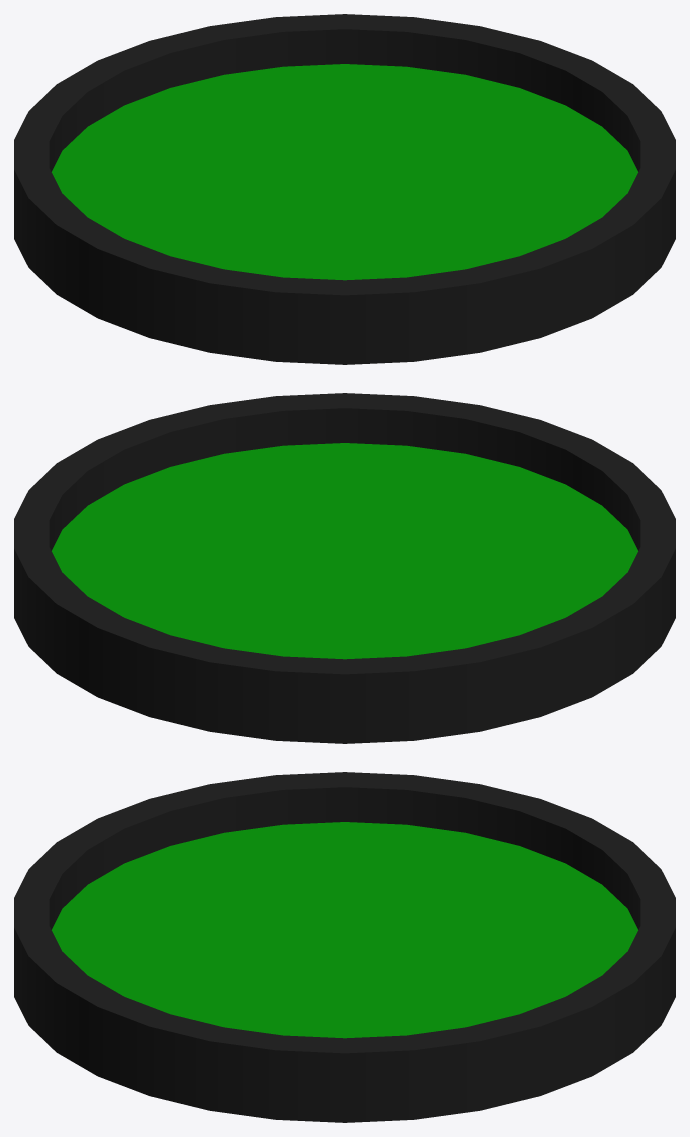
Rendered from Garden_Box_4.fbx.
The picture shows the model from 3 angles, top to bottom: view 1: azimuth 30°, elevation 25°; view 2: azimuth 150°, elevation 25°; view 3: azimuth 270°, elevation 25°; orthographic projection.
Parts seen in each view (by area): view 1: Garden_Box_D; view 2: Garden_Box_D; view 3: Garden_Box_D.
Part boxes in pixels (x1,y1,x2,y2): Garden_Box_D: (14,14,675,364); Garden_Box_D: (14,393,675,743); Garden_Box_D: (14,772,675,1122).
Bounding box in the file's own units: 86.72 × 10 × 86.25.
